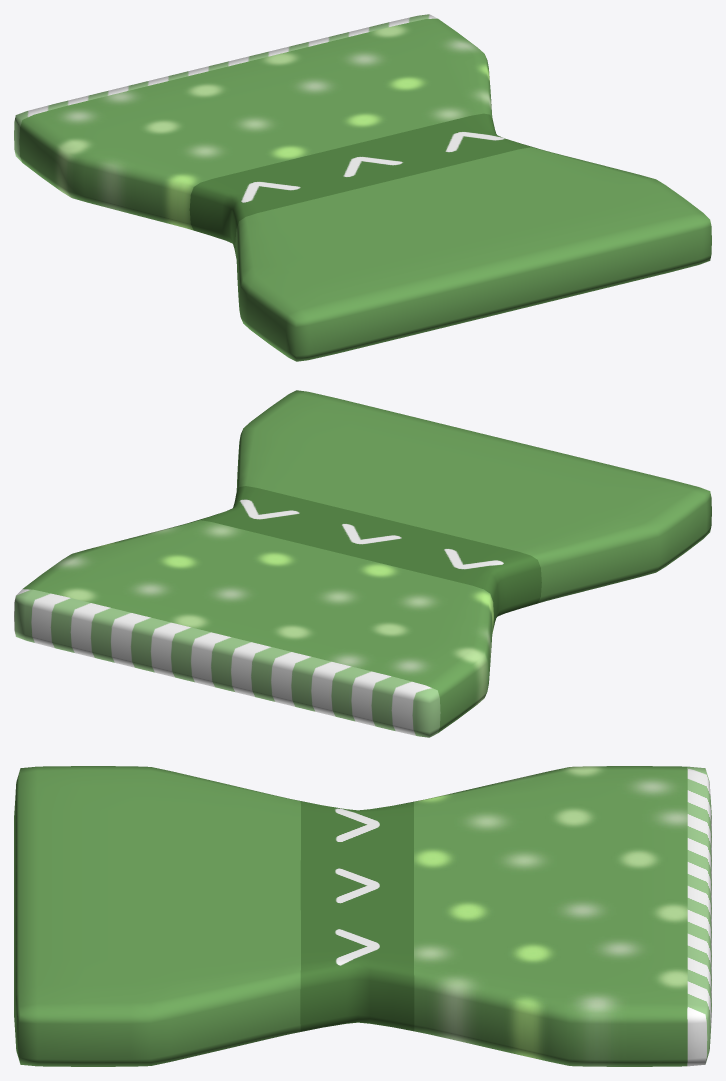
The model's file is sector2.fbx.
3 renders of one model, top to bottom at view 1: azimuth 30°, elevation 25°; view 2: azimuth 150°, elevation 25°; view 3: azimuth 270°, elevation 25°, orthographic. The views are drawn at different scales.
Visible parts, largest first — view 1: sector2; view 2: sector2; view 3: sector2.
Part boxes in pixels (x1,y1,x2,y2): sector2: (14, 14, 711, 361); sector2: (14, 390, 711, 737); sector2: (14, 766, 711, 1066).
Size of the model in its own units: 103 by 11.88 by 121.
Materials: 1 (1 with a texture image).
